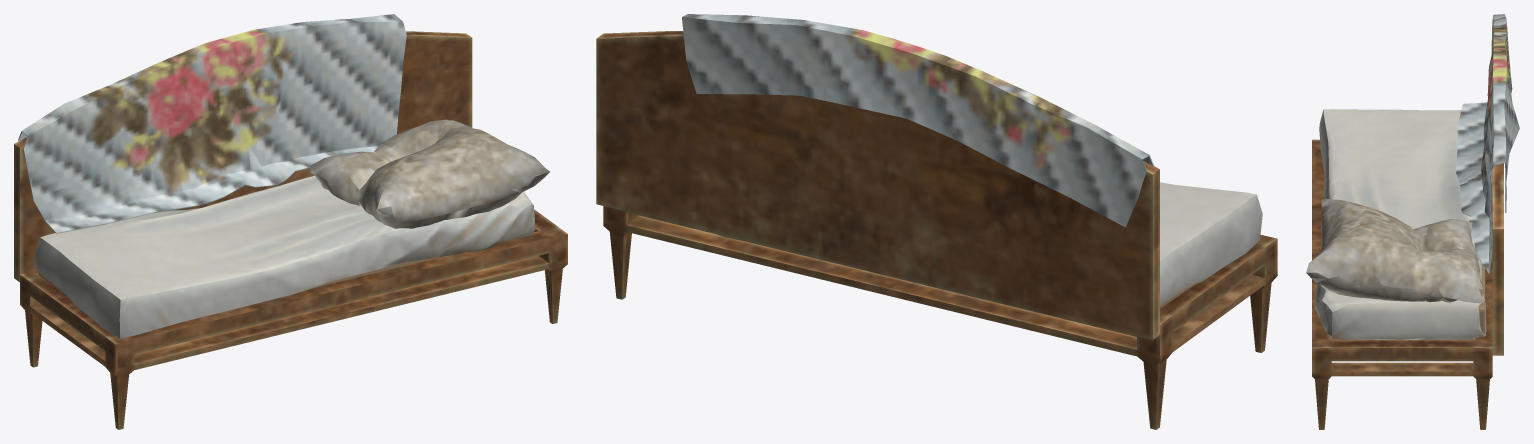
File: daybed.glb
The picture shows the model from 3 angles, left to right: view 1: azimuth 30°, elevation 25°; view 2: azimuth 150°, elevation 25°; view 3: azimuth 270°, elevation 25°; orthographic projection. The views are drawn at different scales.
Visible parts, largest first — view 1: mesh; view 2: mesh; view 3: mesh.
Part boxes in pixels (x1,y1,x2,y2): mesh: (14, 14, 567, 429); mesh: (596, 14, 1277, 429); mesh: (1306, 14, 1519, 429).
Bounding box in the file's own units: 1.97 × 1.13 × 0.8547.
1 material, 1 textured.
